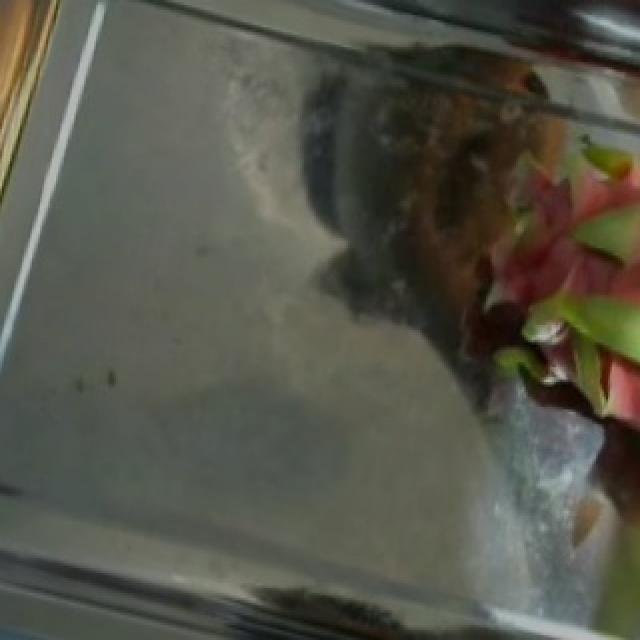fruit: (396, 80, 640, 496)
